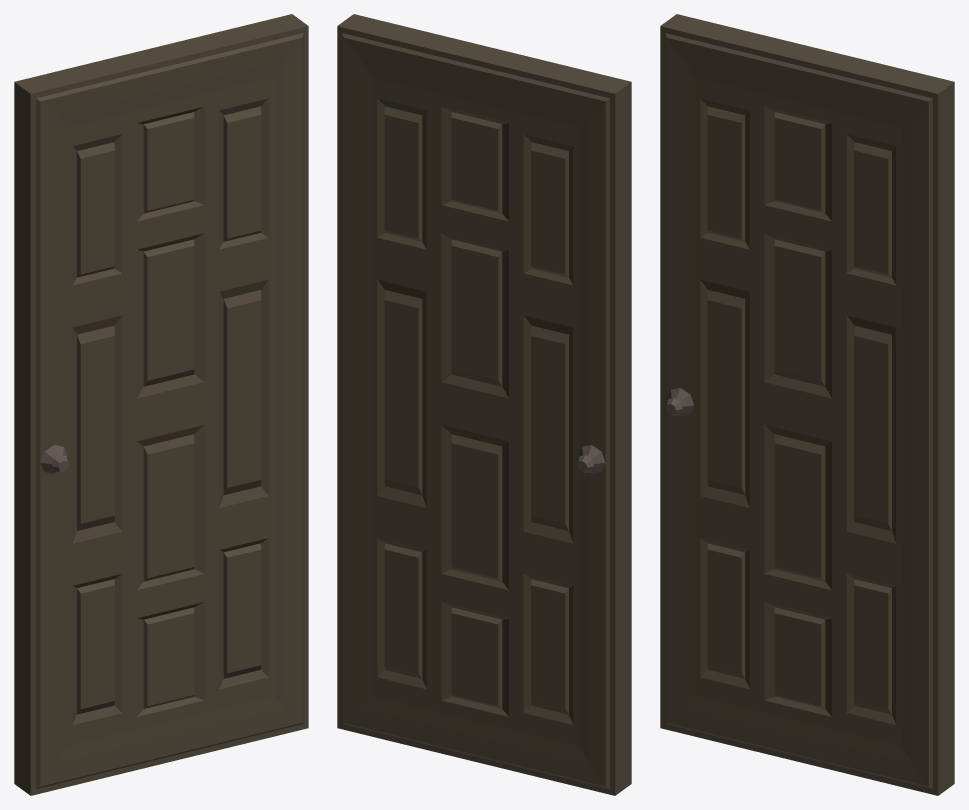
File: quaternius-house-interior-door-5.glb
The picture shows the model from 3 angles, left to right: view 1: azimuth 30°, elevation 25°; view 2: azimuth 150°, elevation 25°; view 3: azimuth 330°, elevation 25°; orthographic projection.
Parts seen in each view (by area): view 1: Door_5; view 2: Door_5; view 3: Door_5.
Boxes of the visible parts, x1=… form: Door_5: x1=14, y1=14, x2=308, y2=795; Door_5: x1=337, y1=14, x2=631, y2=795; Door_5: x1=660, y1=14, x2=954, y2=795.
Size of the model in its own units: 1.74 by 4.2 by 0.4212.
